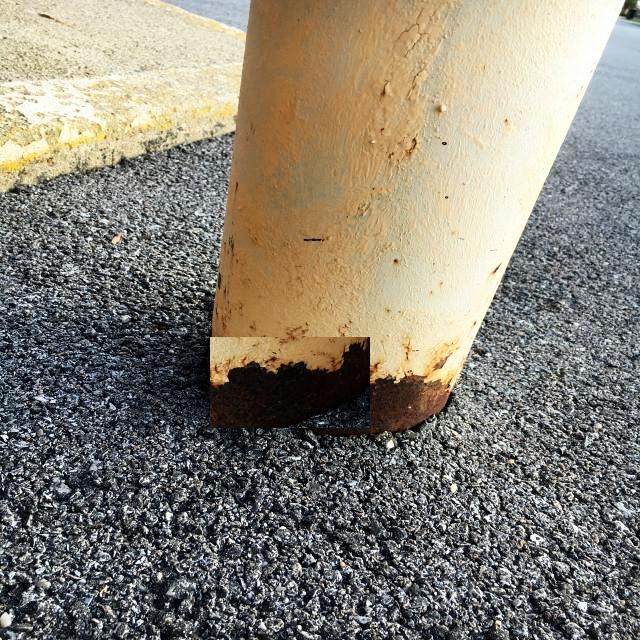Corrosion: (230, 366, 450, 435), (302, 342, 370, 418), (211, 381, 250, 428), (276, 363, 310, 391)
